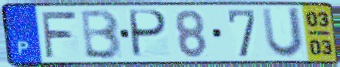7: (226, 8, 257, 59)
8: (173, 8, 209, 59)
B: (80, 7, 125, 61)
F: (39, 10, 79, 59)
P: (129, 8, 170, 59)
U: (259, 6, 306, 60)
